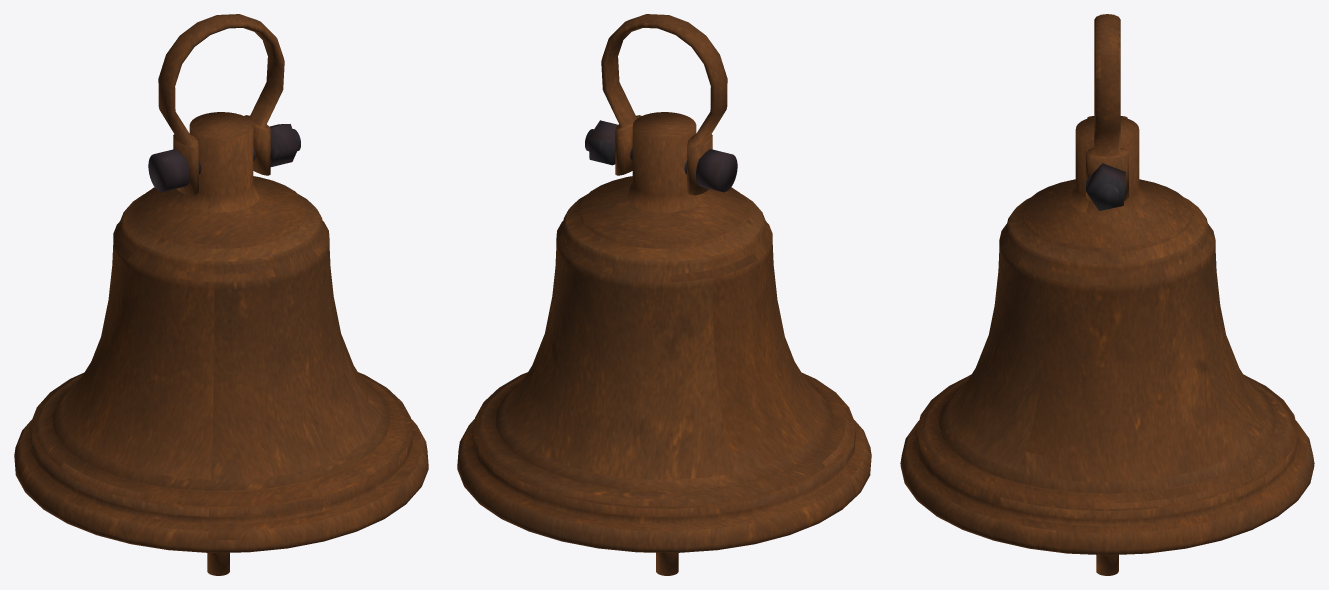
File: BELL.glb
3 renders of one model, left to right at view 1: azimuth 30°, elevation 25°; view 2: azimuth 150°, elevation 25°; view 3: azimuth 270°, elevation 25°, orthographic.
Parts seen in each view (by area): view 1: BELL, BELL.001; view 2: BELL, BELL.001; view 3: BELL.
Part boxes in pixels (x1=…): BELL: x1=14, y1=14, x2=428, y2=552; BELL.001: x1=207, y1=552, x2=229, y2=575; BELL: x1=457, y1=14, x2=871, y2=552; BELL.001: x1=656, y1=552, x2=678, y2=575; BELL: x1=900, y1=14, x2=1314, y2=555.
Size of the model in its own units: 1.31 by 1.93 by 1.31.
2 materials, 2 textured.
